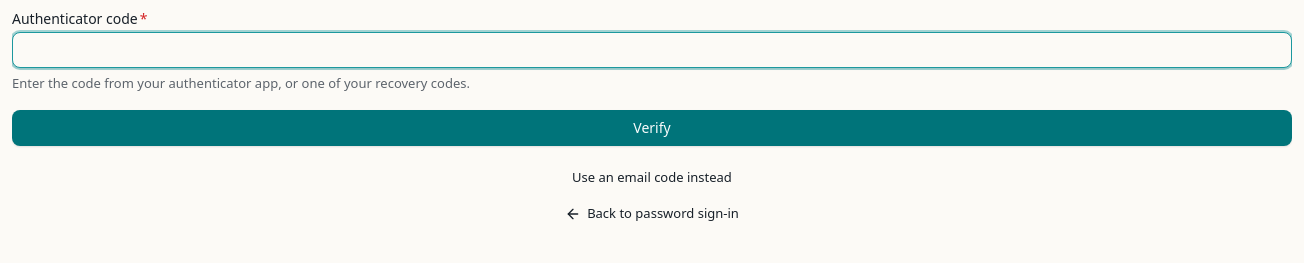
SecondFactorForm › switches to the email method, strips non-digits and starts a resend countdown
This screenshot has width=1304, height=263.
Step 1. Click the button "Use an email code instead" → [652, 178], box [12,162,1292,194]
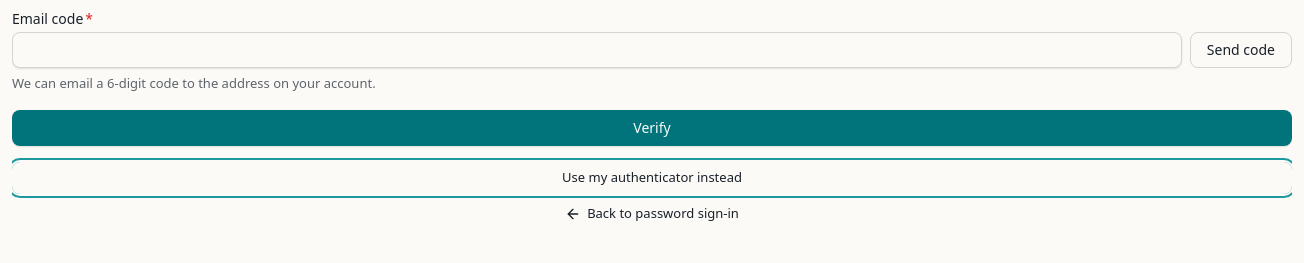
Step 2. Type "12a3-45678" into the field labelled "Email code*" → [597, 50], box [12,32,1182,68]
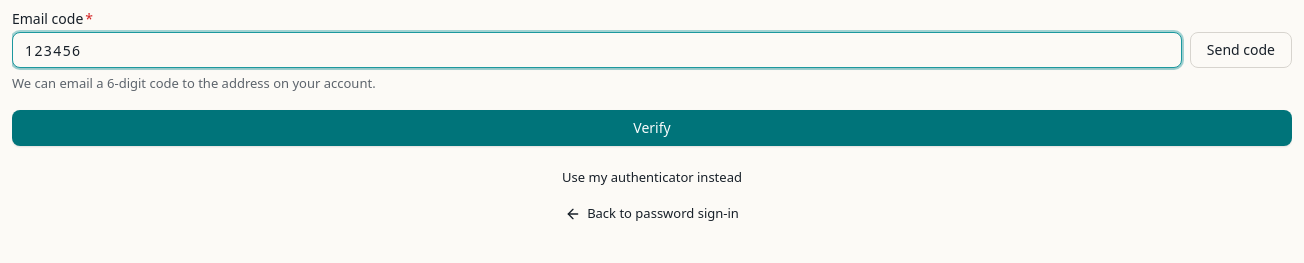
expect the field labelled "Email code*" holds "123456": met, box [12,32,1182,68]
Step 3. Click the button "Send code" → [1241, 50], box [1190,32,1292,68]
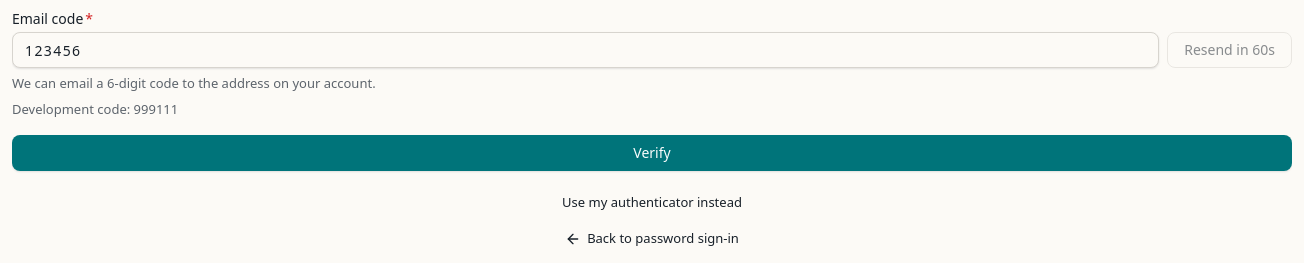
expect the text "Development code: 999111" is shown: met, box [12,100,178,118]
expect the button "Resend in 60s" is disabled: met, box [1167,32,1292,68]
